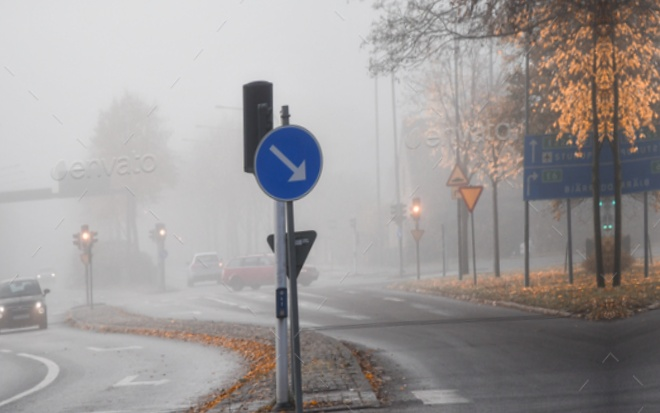Keep right: (249, 118, 329, 207)
